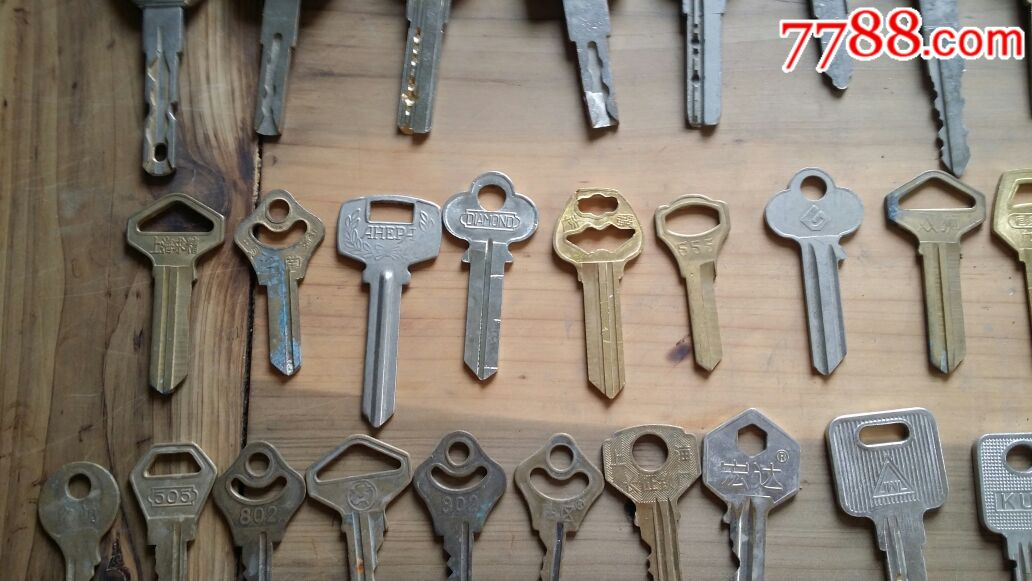key: (335, 180, 447, 434), (753, 163, 875, 387), (438, 170, 545, 385), (891, 153, 987, 385), (554, 175, 646, 407), (101, 1, 217, 182), (822, 401, 938, 581), (126, 198, 224, 411), (232, 186, 328, 376), (698, 413, 800, 580), (664, 191, 742, 381), (606, 425, 697, 581), (368, 4, 470, 140), (120, 435, 218, 572), (419, 420, 503, 579), (512, 432, 601, 581), (314, 437, 407, 579), (241, 1, 327, 147), (545, 2, 630, 140), (964, 425, 1032, 581), (662, 2, 740, 132), (28, 453, 112, 572), (227, 444, 304, 572)
